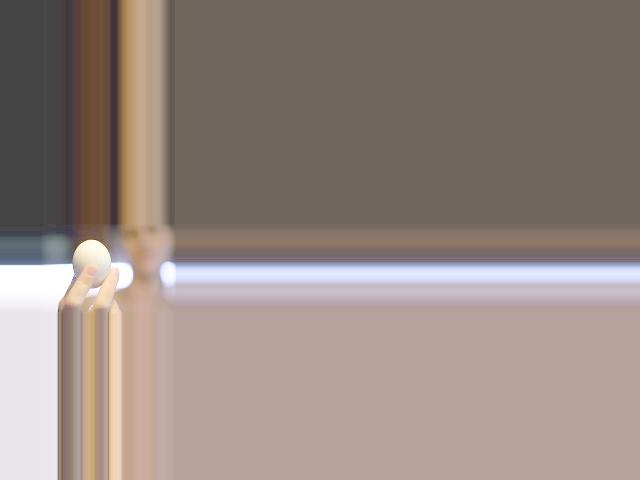egg: (73, 240, 112, 289)
